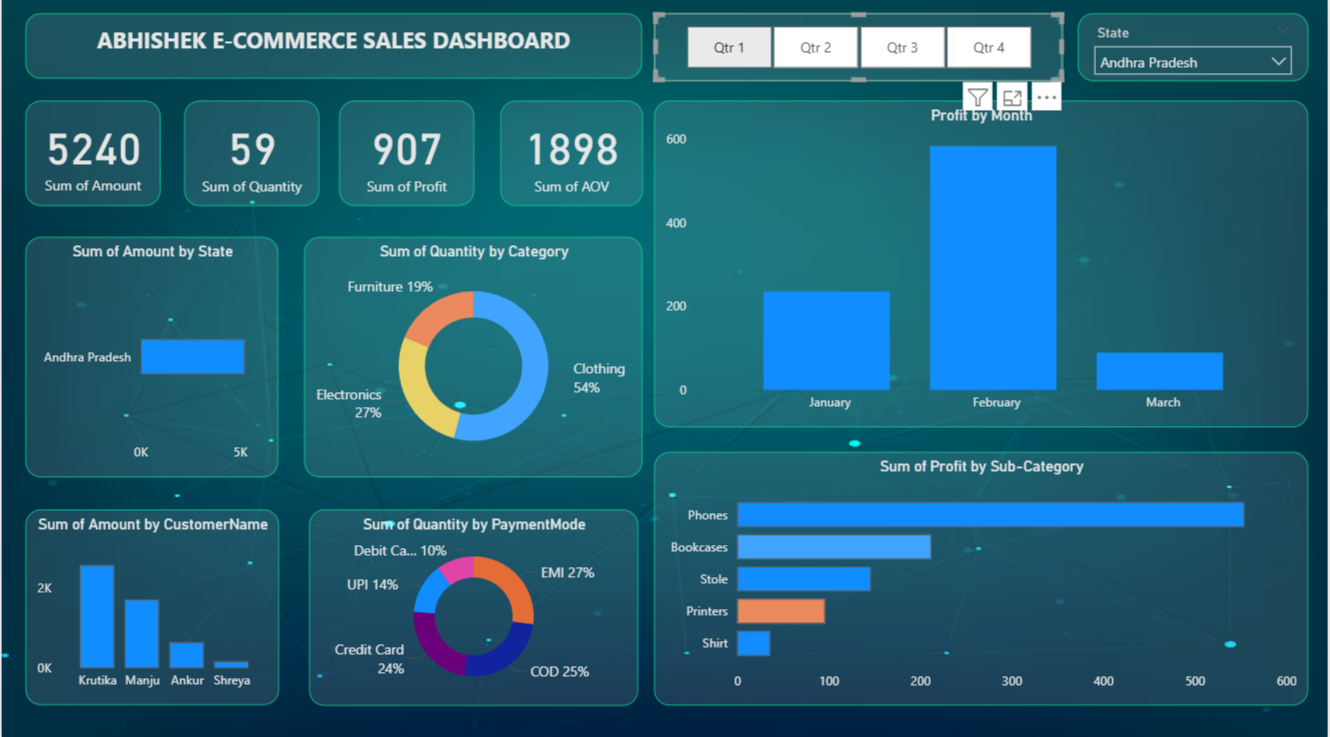

The dashboard page shown, as its layout file describes it:
{"tool":"powerbi","page":{"name":"Page 1","canvas":[1280,720],"ordinal":0},"visuals":[{"type":"textbox","box":[23.3,17.8,595.5,63.1],"z":0},{"type":"columnChart","title":"Profit by Month","fields":{"Y":["Sum(Details.Profit)"],"Category":["Orders.Order Date.Variation.Date Hierarchy.Month"]},"box":[629.8,102.5,631,314.9],"z":1000},{"type":"barChart","fields":{"Category":["Details.Sub-Category"],"Y":["Sum(Details.Profit)"]},"box":[629.8,441.6,631,244.9],"z":2000},{"type":"donutChart","fields":{"Category":["Details.Category"],"Y":["Sum(Details.Quantity)"]},"box":[292.3,234.6,326.6,231.9],"z":3000},{"type":"donutChart","fields":{"Y":["Sum(Details.Quantity)"],"Category":["Details.PaymentMode"]},"box":[296.8,497.1,317.3,189.4],"z":4000},{"type":"card","fields":{"Values":["Sum(Details.Amount)"]},"box":[22.9,102.5,130.3,101.3],"z":5000},{"type":"card","fields":{"Values":["Sum(Details.Quantity)"]},"box":[175.6,102.9,130.4,101.5],"z":6000},{"type":"card","fields":{"Values":["Sum(Details.Profit)"]},"box":[325.2,102.9,130.4,101.5],"z":7000},{"type":"card","fields":{"Values":["Sum(Details.AOV)"]},"box":[481.6,102.9,137.2,101.5],"z":8000},{"type":"barChart","fields":{"Category":["Orders.State"],"Y":["Sum(Details.Amount)"]},"box":[23.3,234.6,244.3,231.9],"z":9000},{"type":"columnChart","fields":{"Category":["Orders.CustomerName"],"Y":["Sum(Details.Amount)"]},"box":[23,497,245,189],"z":10000},{"type":"slicer","fields":{"Values":["Orders.Order Date.Variation.Date Hierarchy.Quarter"]},"box":[629.8,17.8,393.8,65.9],"z":11000},{"type":"slicer","fields":{"Values":["Orders.State"]},"box":[1038.8,17.8,222.3,65.9],"z":12000}]}

Visuals, with their boxes in screenshot pixels (x1, y1, x2, y2), scaled from the page's 1280x720 canvas onto the 1330x737 screenshot:
textbox: locate(24, 18, 643, 83)
"Profit by Month" columnChart: locate(654, 105, 1310, 427)
barChart - Details.Sub-Category x Sum(Details.Profit): locate(654, 452, 1310, 703)
donutChart - Details.Category x Sum(Details.Quantity): locate(304, 240, 643, 478)
donutChart - Sum(Details.Quantity) x Details.PaymentMode: locate(308, 509, 638, 703)
card - Sum(Details.Amount): locate(24, 105, 159, 209)
card - Sum(Details.Quantity): locate(182, 105, 318, 209)
card - Sum(Details.Profit): locate(338, 105, 473, 209)
card - Sum(Details.AOV): locate(500, 105, 643, 209)
barChart - Orders.State x Sum(Details.Amount): locate(24, 240, 278, 478)
columnChart - Orders.CustomerName x Sum(Details.Amount): locate(24, 509, 278, 702)
slicer - Orders.Order Date.Variation.Date Hierarchy.Quarter: locate(654, 18, 1064, 86)
slicer - Orders.State: locate(1079, 18, 1310, 86)
